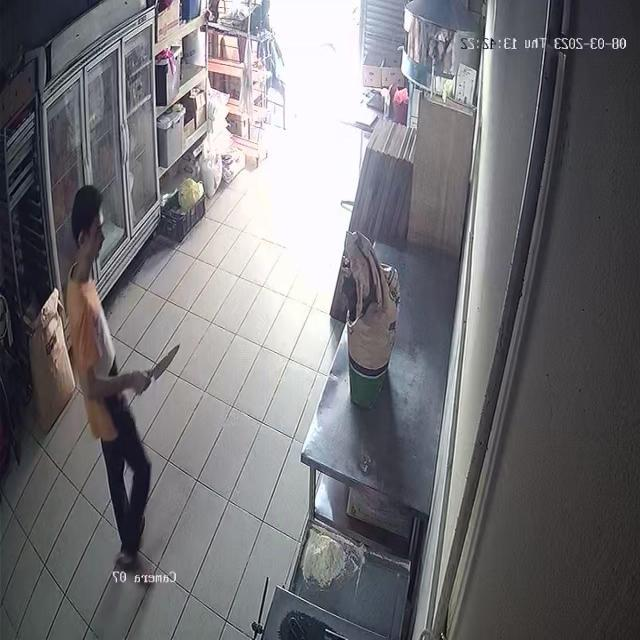Knife: (144, 342, 185, 384)
